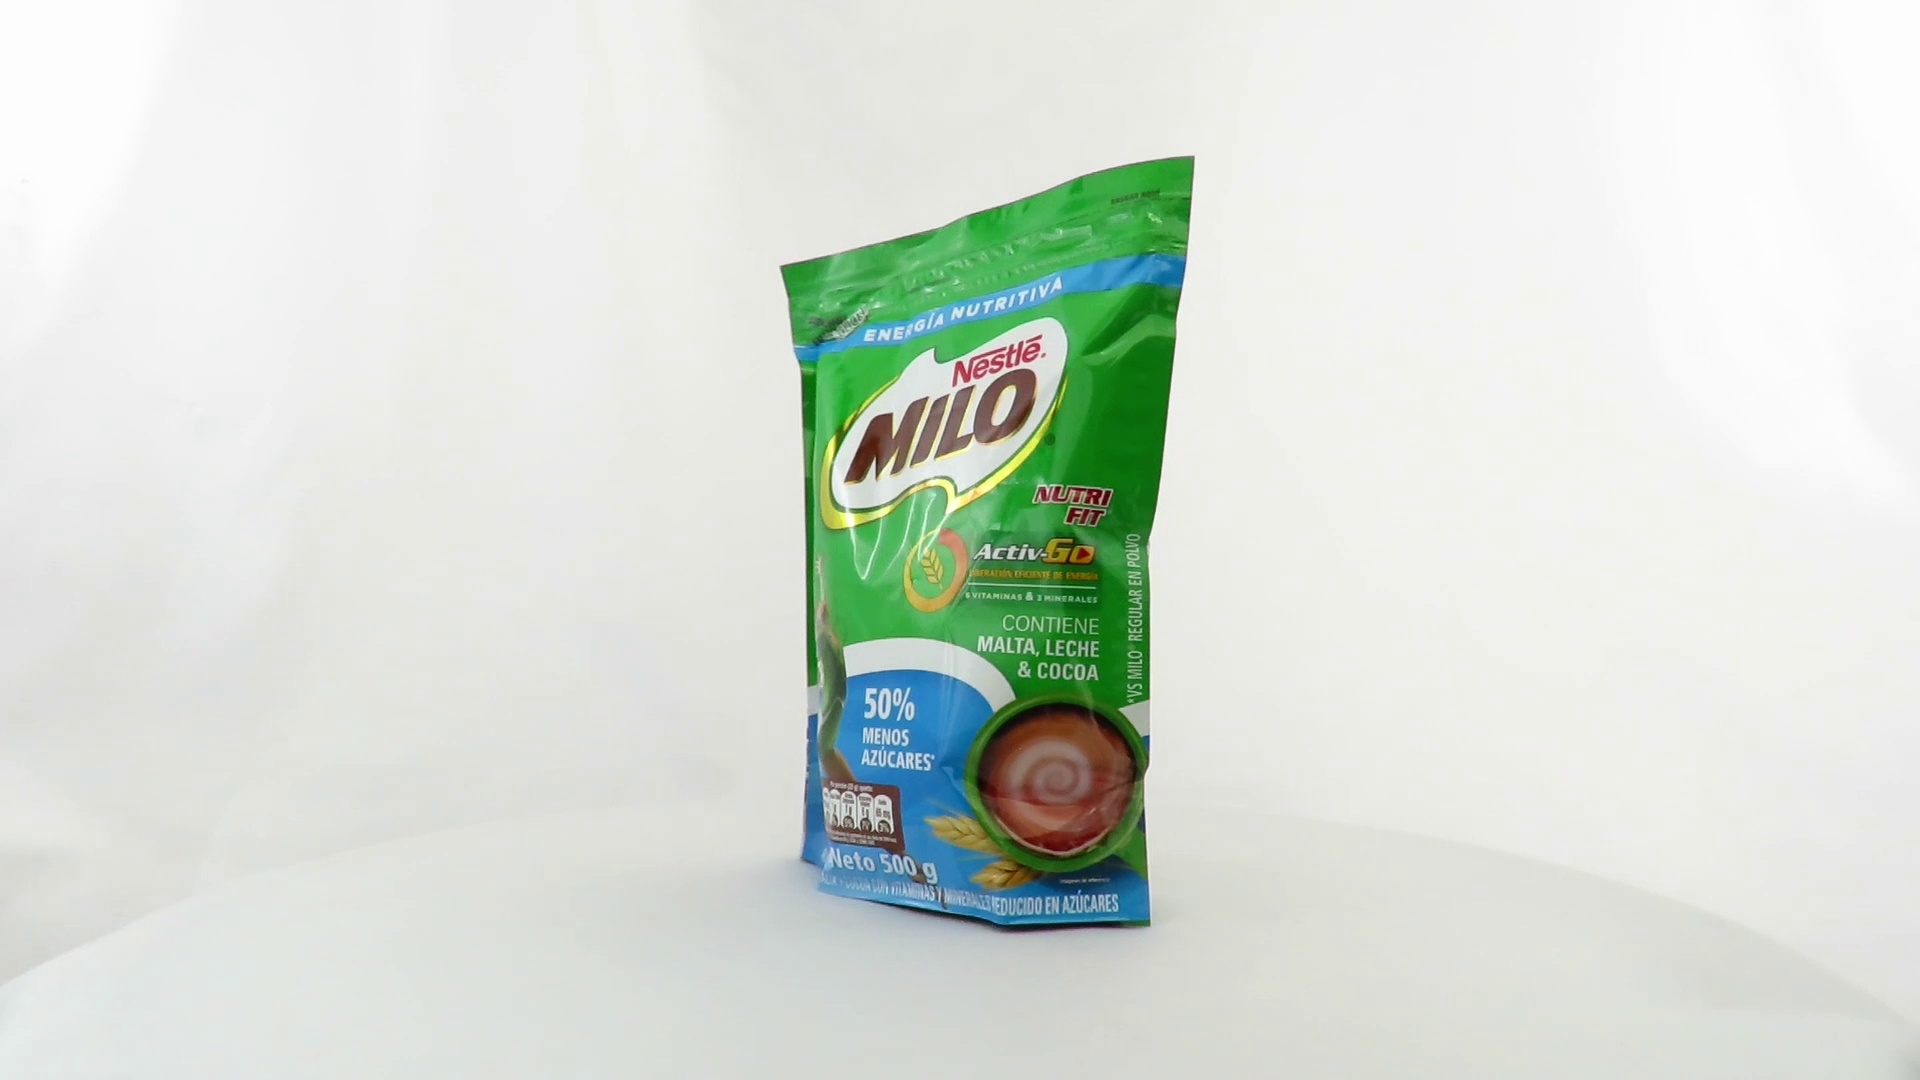COL0170205DYP50000: (774, 150, 1201, 940)
